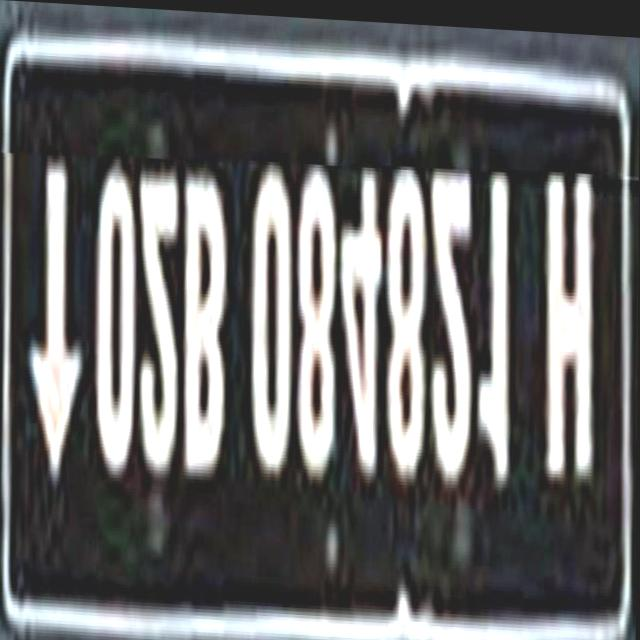0: (93, 164, 140, 480), (250, 159, 296, 470)
1: (479, 165, 517, 482)
2: (430, 160, 480, 485), (140, 169, 183, 476)
4: (344, 156, 386, 474)
8: (296, 155, 339, 476), (388, 162, 424, 479)
b: (184, 167, 233, 472)
h: (536, 160, 600, 481)
